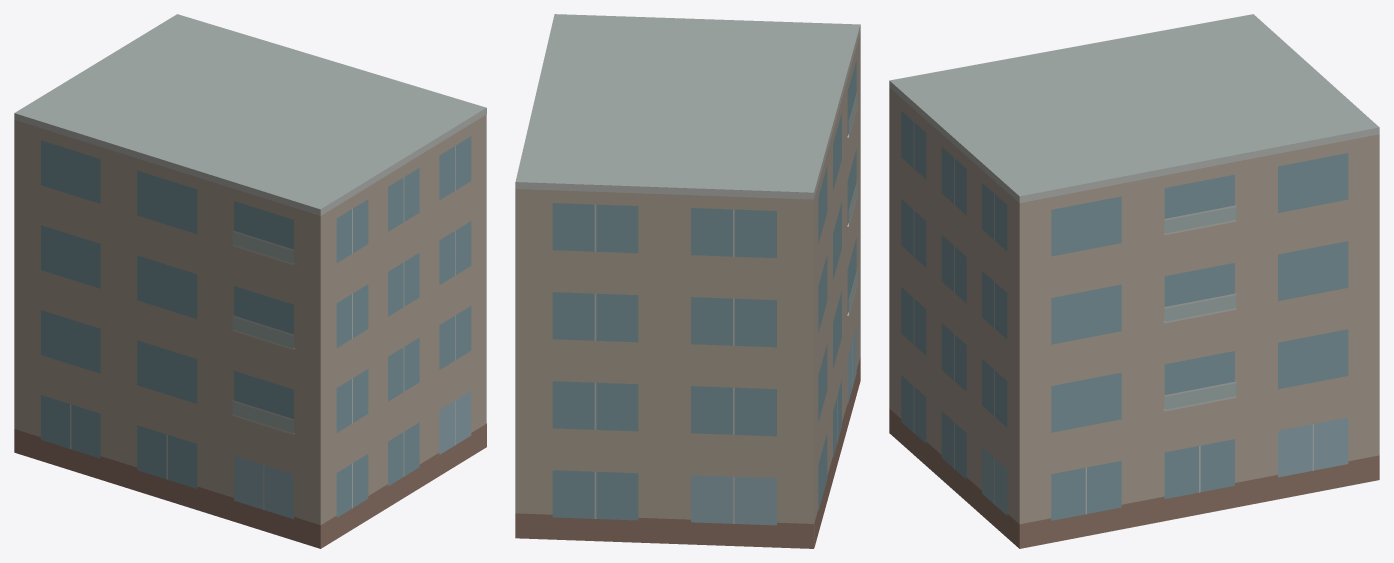
File: survey-upis-32736435.glb
3 views of the same model, side by side, from view 1: azimuth 30°, elevation 25°; view 2: azimuth 150°, elevation 25°; view 3: azimuth 270°, elevation 25° (orthographic). The views are drawn at different scales.
Visible parts, largest first — view 1: survey-upis-32736435.tmp; view 2: survey-upis-32736435.tmp; view 3: survey-upis-32736435.tmp.
Boxes of the visible parts, x1=… form: survey-upis-32736435.tmp: x1=14, y1=14, x2=486, y2=548; survey-upis-32736435.tmp: x1=515, y1=14, x2=860, y2=548; survey-upis-32736435.tmp: x1=889, y1=14, x2=1379, y2=548.
Size of the model in its own units: 13.99 by 12.6 by 15.89.
